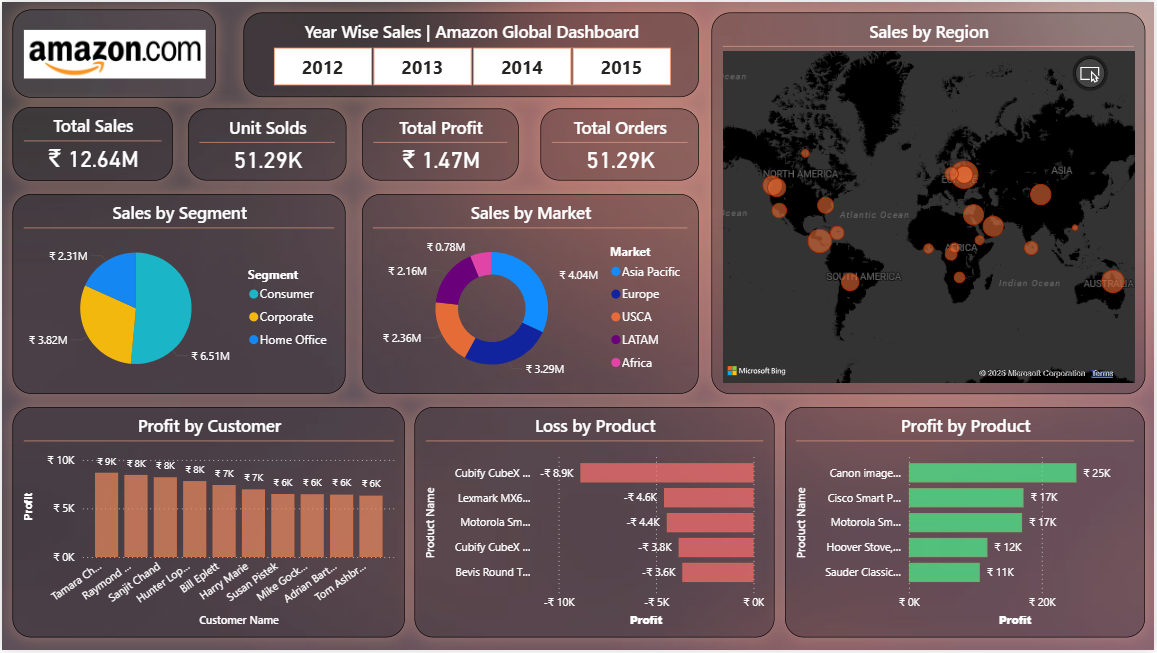

What the dashboard file says about the page in this screenshot:
{"tool":"powerbi","page":{"name":"Dashboard","canvas":[1280,720],"ordinal":0},"visuals":[{"type":"image","box":[12,8,226,98],"z":0},{"type":"slicer","title":"Year Wise Sales | Amazon Global Dashboard ","fields":{"Values":["Orders.Year"]},"box":[268,12,506,94],"z":1000},{"type":"card","title":"Total Sales","fields":{"Values":["Orders.Sales"]},"box":[12,117,178,82],"z":2000},{"type":"card","title":"Total Orders","fields":{"Values":["Orders.Order ID"]},"box":[598,118,176,80],"z":3000},{"type":"card","title":"Unit Solds","fields":{"Values":["Orders.Quantity"]},"box":[206,118,176,80],"z":4000},{"type":"card","title":"Total Profit","fields":{"Values":["Orders.Profit"]},"box":[400,118,174,80],"z":5000},{"type":"map","fields":{"Category":["Orders.Region"],"Size":["Orders.Sales"]},"box":[788,11,482,424],"z":6000},{"type":"pieChart","fields":{"Y":["Orders.Sales"],"Category":["Orders.Segment"]},"box":[12,214,370,222],"z":7000},{"type":"donutChart","fields":{"Category":["Orders.Market"],"Y":["Orders.Sales"]},"box":[400,214,374,222],"z":8000},{"type":"columnChart","title":"Profit by Customer","fields":{"Category":["Orders.Customer Name"],"Y":["Orders.Profit"]},"box":[12,450,436,256],"z":9000},{"type":"clusteredBarChart","title":"Loss by Product ","fields":{"Category":["Orders.Product Name"],"Y":["Orders.Profit"]},"box":[459,450,400,256],"z":10000},{"type":"clusteredBarChart","title":"Profit by Product ","fields":{"Category":["Orders.Product Name"],"Y":["Orders.Profit"]},"box":[870,450,400,256],"z":11000}]}

Visuals, with their boxes in screenshot pixels (x1, y1, x2, y2), scaled from the page's 1280x720 canvas onto the 1157x653 screenshot:
image: [11, 7, 215, 96]
"Year Wise Sales | Amazon Global Dashboard " slicer: [242, 11, 700, 96]
"Total Sales" card: [11, 106, 172, 180]
"Total Orders" card: [541, 107, 700, 180]
"Unit Solds" card: [186, 107, 345, 180]
"Total Profit" card: [362, 107, 519, 180]
map - Orders.Region x Orders.Sales: [712, 10, 1148, 395]
pieChart - Orders.Sales x Orders.Segment: [11, 194, 345, 395]
donutChart - Orders.Market x Orders.Sales: [362, 194, 700, 395]
"Profit by Customer" columnChart: [11, 408, 405, 640]
"Loss by Product " clusteredBarChart: [415, 408, 776, 640]
"Profit by Product " clusteredBarChart: [786, 408, 1148, 640]
